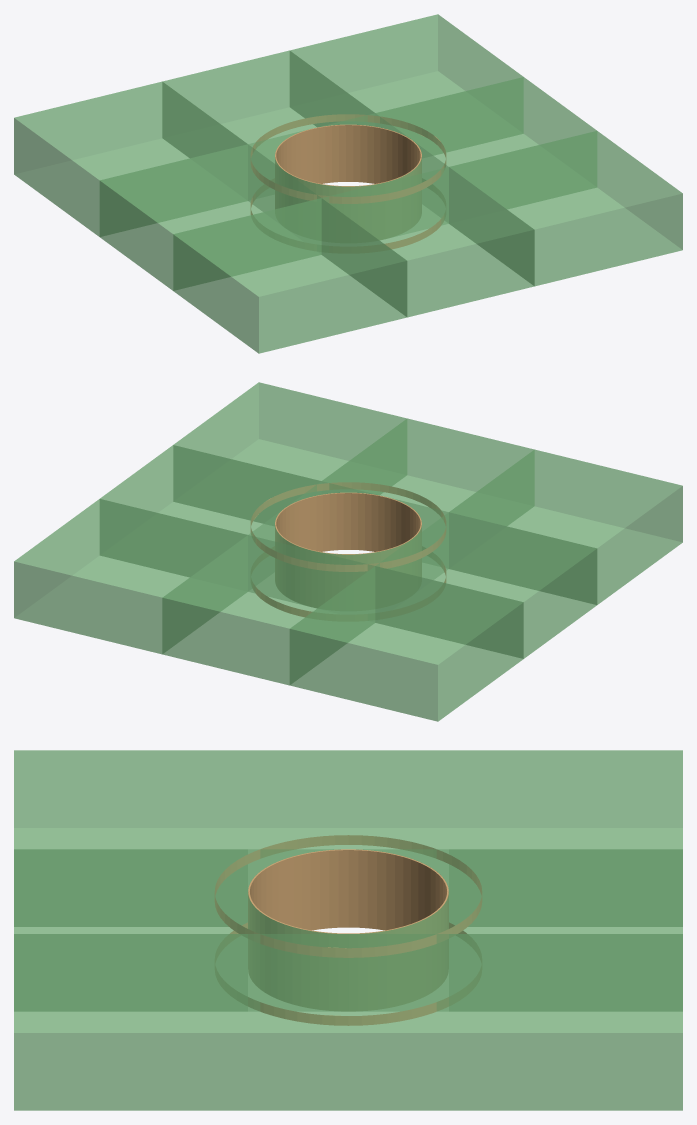
File: board.glb
3 views of the same model, one above another, from view 1: azimuth 30°, elevation 25°; view 2: azimuth 150°, elevation 25°; view 3: azimuth 270°, elevation 25° (orthographic). The views are drawn at different scales.
Visible parts, largest first — view 1: Substrate_Layer_0_Z0, Contact_3, Contact_2; view 2: Substrate_Layer_0_Z0, Contact_3, Contact_2; view 3: Substrate_Layer_0_Z0, Contact_3, Contact_2, Contact_1.
Boxes of the visible parts, bbox=[...] form: Substrate_Layer_0_Z0: bbox=[14, 14, 682, 353]; Contact_3: bbox=[275, 124, 421, 195]; Contact_2: bbox=[250, 114, 446, 203]; Substrate_Layer_0_Z0: bbox=[14, 382, 682, 721]; Contact_3: bbox=[275, 492, 421, 563]; Contact_2: bbox=[250, 482, 446, 571]; Substrate_Layer_0_Z0: bbox=[14, 750, 682, 1110]; Contact_3: bbox=[248, 849, 448, 933]; Contact_2: bbox=[214, 835, 482, 957]; Contact_1: bbox=[230, 922, 466, 1025].
Size of the model in its own units: 0.01 by 0.00128 by 0.01.
